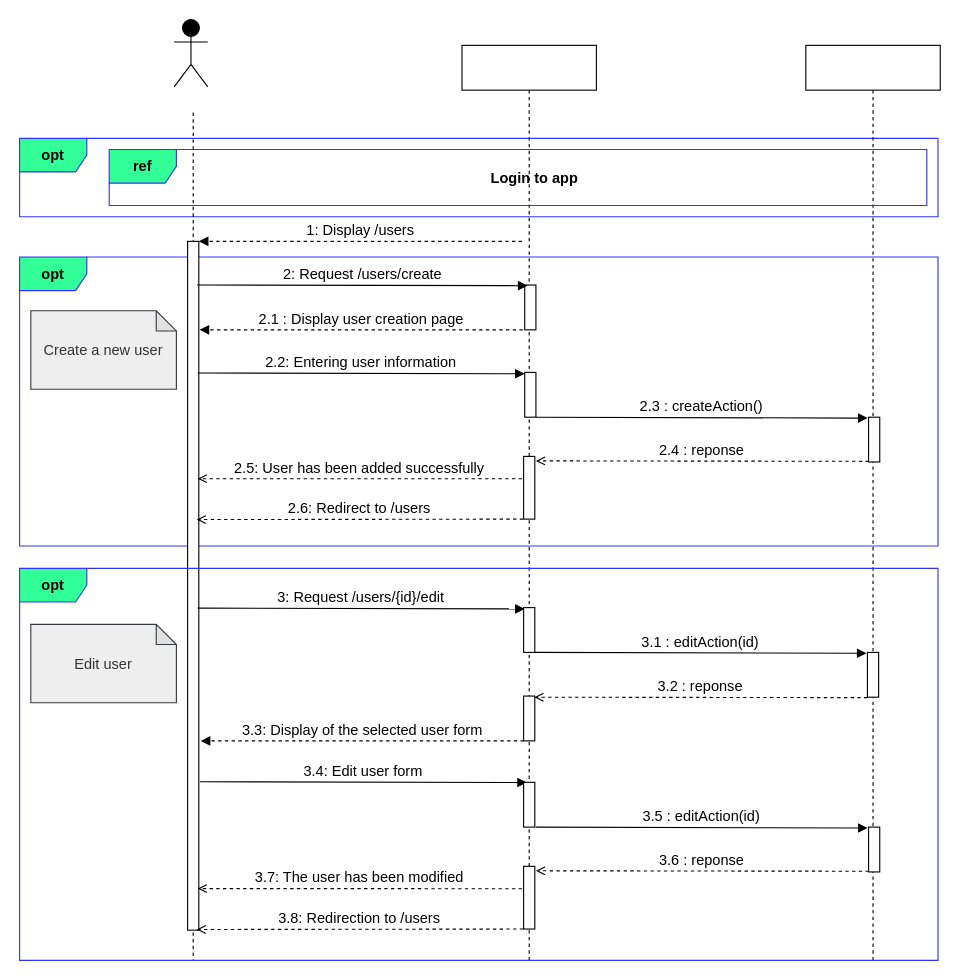
Some shapes in this 960 by 980 pixel diagram are drawn without their labels. Each missing label, with the box of its shape:
:Administrator: (173, 18, 208, 87)
Application: (461, 44, 596, 960)
Database: (805, 44, 940, 960)
